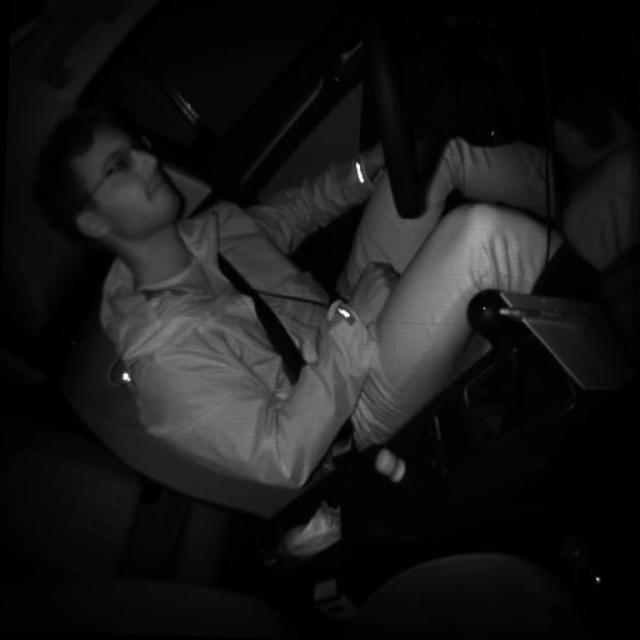pen: (498, 305, 598, 324)
